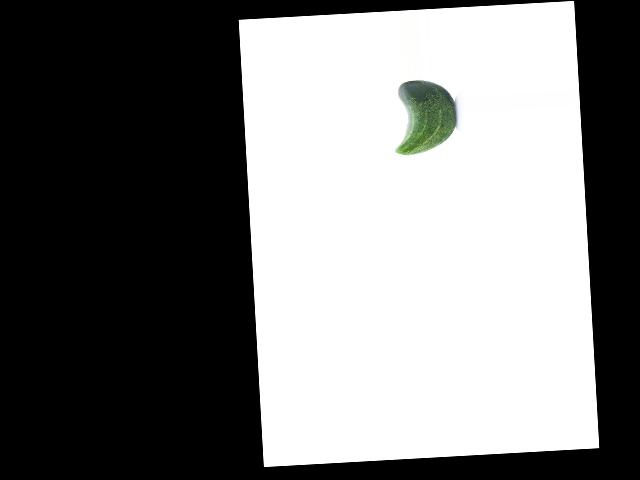cucumber: (391, 78, 458, 156)
